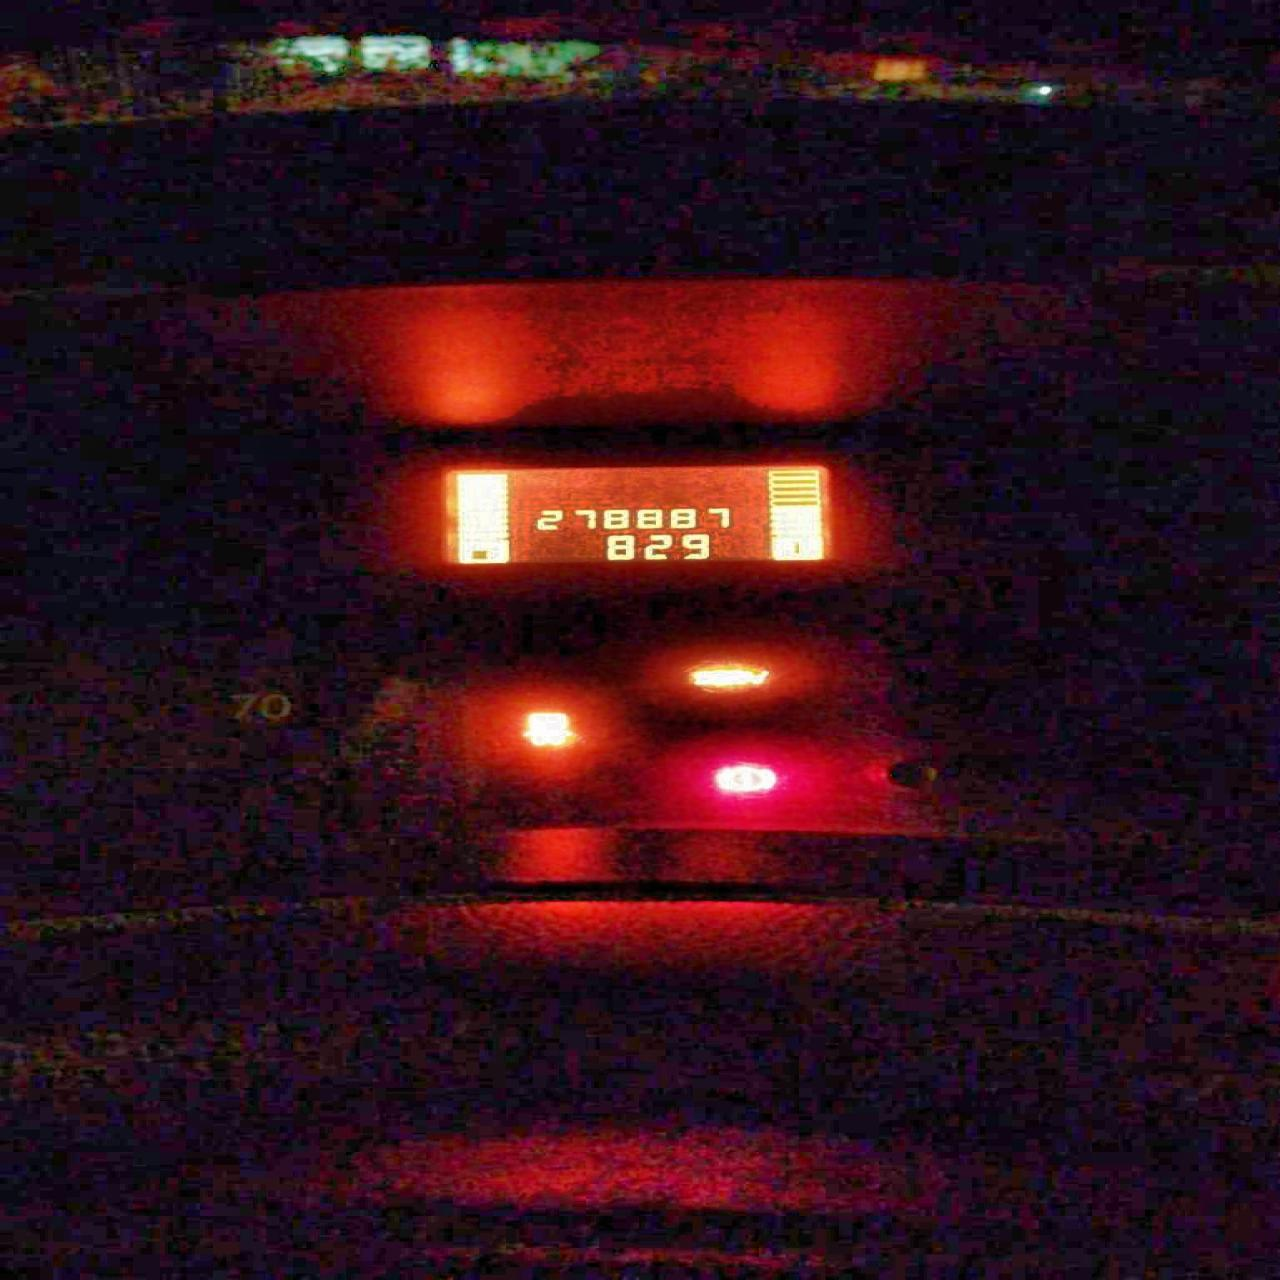2: (641, 533, 673, 560), (535, 509, 563, 530)
7: (704, 506, 730, 527), (571, 509, 595, 530)
8: (605, 533, 635, 560), (633, 508, 662, 529), (601, 509, 629, 530), (667, 508, 696, 527)
9: (679, 533, 709, 559)
odometer: (435, 464, 832, 565)
